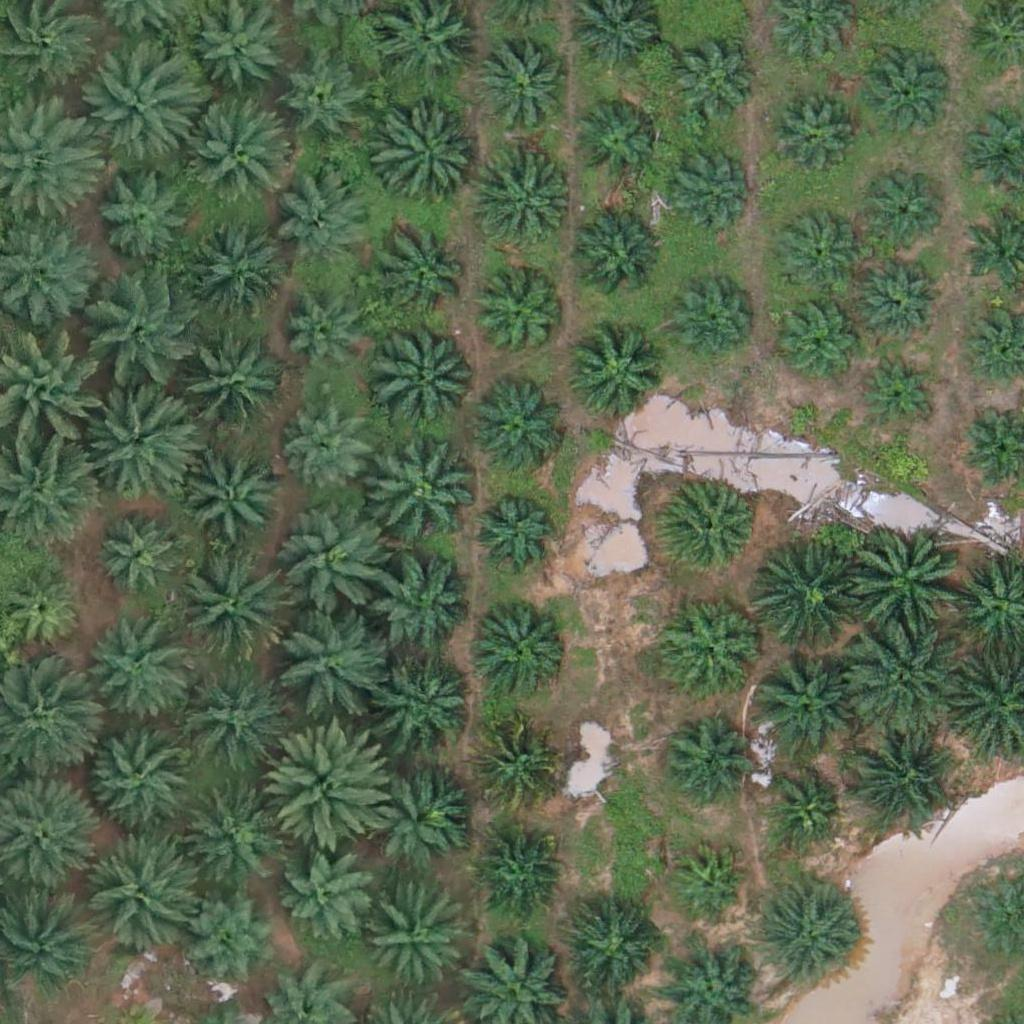Kelapa_Sawit: (269, 724, 394, 850), (271, 602, 384, 716), (172, 331, 285, 445), (173, 550, 286, 663), (177, 662, 290, 775), (84, 717, 197, 830), (750, 544, 863, 657), (365, 433, 478, 546), (89, 277, 202, 390), (278, 508, 391, 621), (371, 318, 483, 432), (88, 54, 200, 168), (851, 623, 963, 736), (77, 618, 189, 731), (82, 835, 194, 948), (850, 527, 962, 640), (185, 100, 297, 213), (84, 382, 196, 495), (751, 653, 851, 754), (471, 595, 571, 696), (378, 654, 478, 755), (364, 891, 464, 992), (181, 783, 281, 884), (183, 884, 283, 985), (565, 209, 665, 310), (566, 325, 666, 426), (475, 153, 575, 254), (375, 109, 475, 210), (184, 447, 284, 548), (89, 159, 189, 260), (849, 728, 949, 828), (759, 888, 859, 988), (662, 596, 762, 696), (373, 561, 473, 661), (363, 761, 463, 861), (660, 481, 760, 581), (468, 381, 568, 481), (377, 225, 477, 325), (278, 169, 378, 269), (185, 225, 285, 325), (659, 713, 747, 801), (570, 908, 658, 996), (470, 719, 558, 807), (668, 40, 756, 128), (661, 142, 749, 230), (763, 90, 851, 178), (861, 45, 949, 133), (477, 275, 565, 363), (469, 488, 557, 576), (96, 513, 184, 601), (473, 827, 560, 915), (281, 851, 368, 939), (668, 277, 755, 365), (778, 294, 865, 382), (774, 209, 861, 297), (859, 170, 946, 258), (860, 254, 947, 342), (573, 95, 660, 183), (482, 39, 569, 127), (282, 58, 369, 146), (282, 302, 369, 390), (287, 407, 374, 495), (861, 351, 936, 427), (671, 844, 746, 920), (766, 770, 841, 845)
